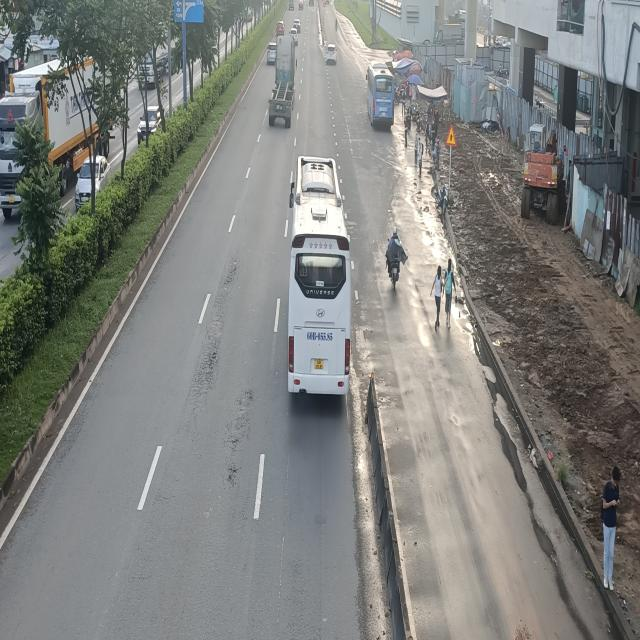coach: (285, 159, 350, 402), (366, 60, 394, 126)
container: (269, 37, 297, 126)
